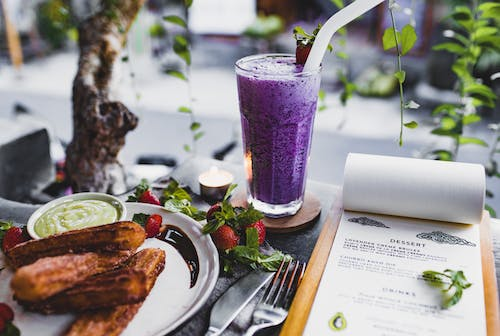knife: (201, 266, 277, 336)
